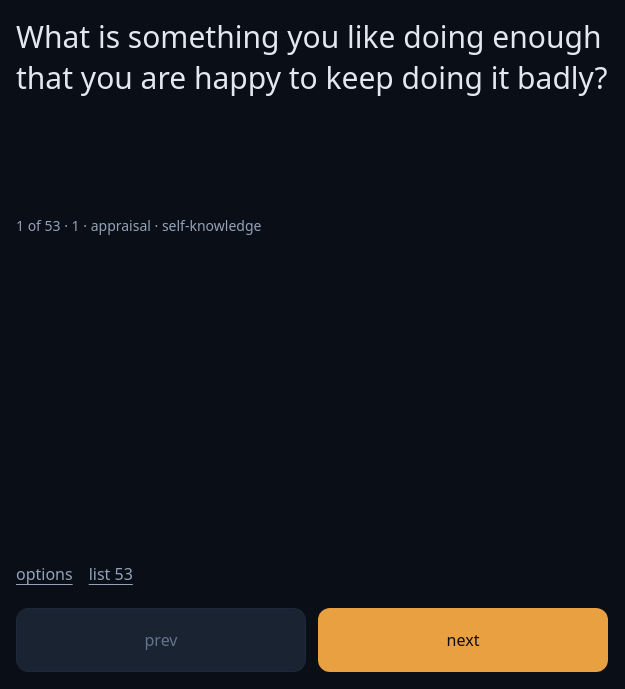
Test: QuestionsClient › moves prev and stores the question it left
Click the button "next" at (463, 640), box 318,608 -> 608,672
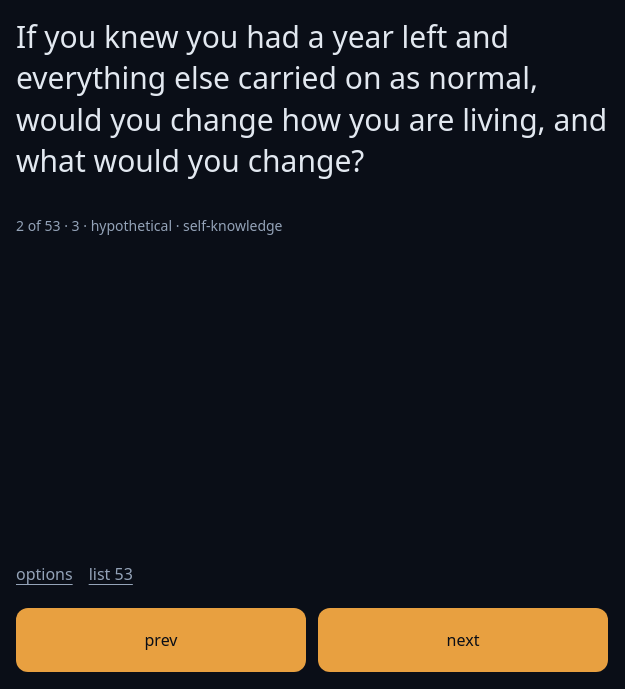
Click the button "prev" at (161, 640), box 16,608 -> 306,672
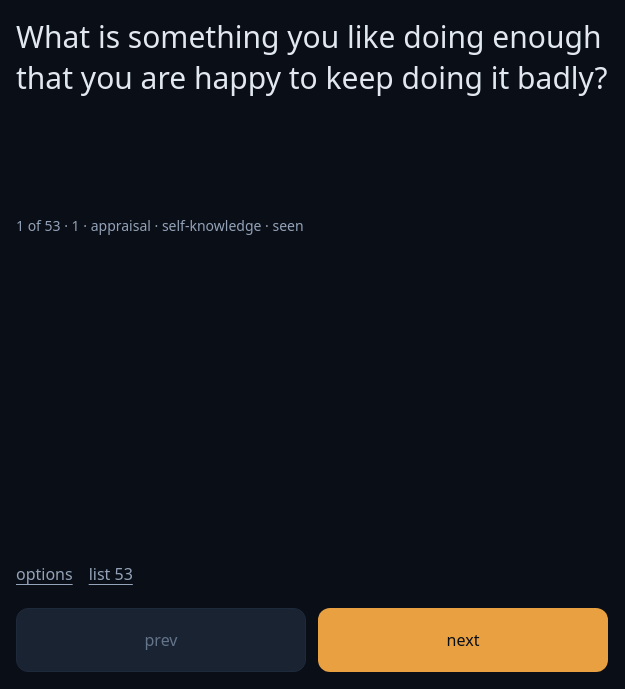
Result: the text "What is something you like doing enough that you are happy to keep doing it badly?" is shown at 16,16 -> 608,98
